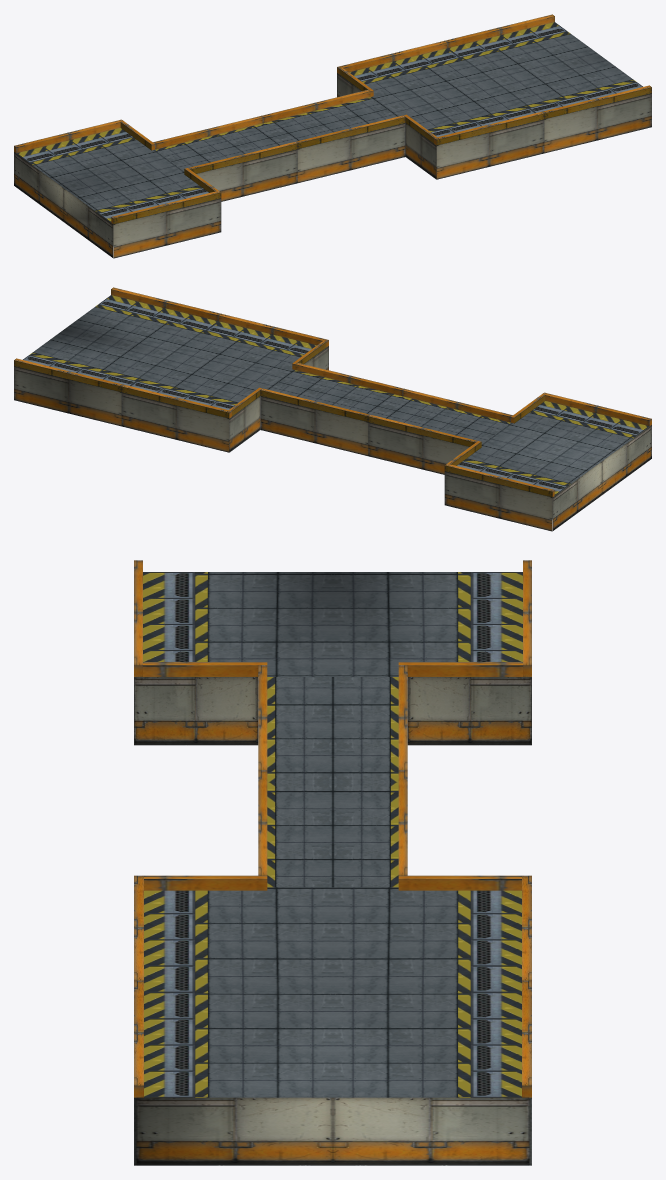
The model's file is background_a.FBX.
The picture shows the model from 3 angles, top to bottom: view 1: azimuth 30°, elevation 25°; view 2: azimuth 150°, elevation 25°; view 3: azimuth 270°, elevation 25°; orthographic projection. The views are drawn at different scales.
Visible parts, largest first — view 1: background; view 2: background; view 3: background.
Part boxes in pixels (box(x1,y1,x2,y2)): background: box(14, 14, 651, 258); background: box(14, 287, 651, 531); background: box(134, 560, 531, 1165).
Size of the model in its own units: 5000 by 1600 by 355.
